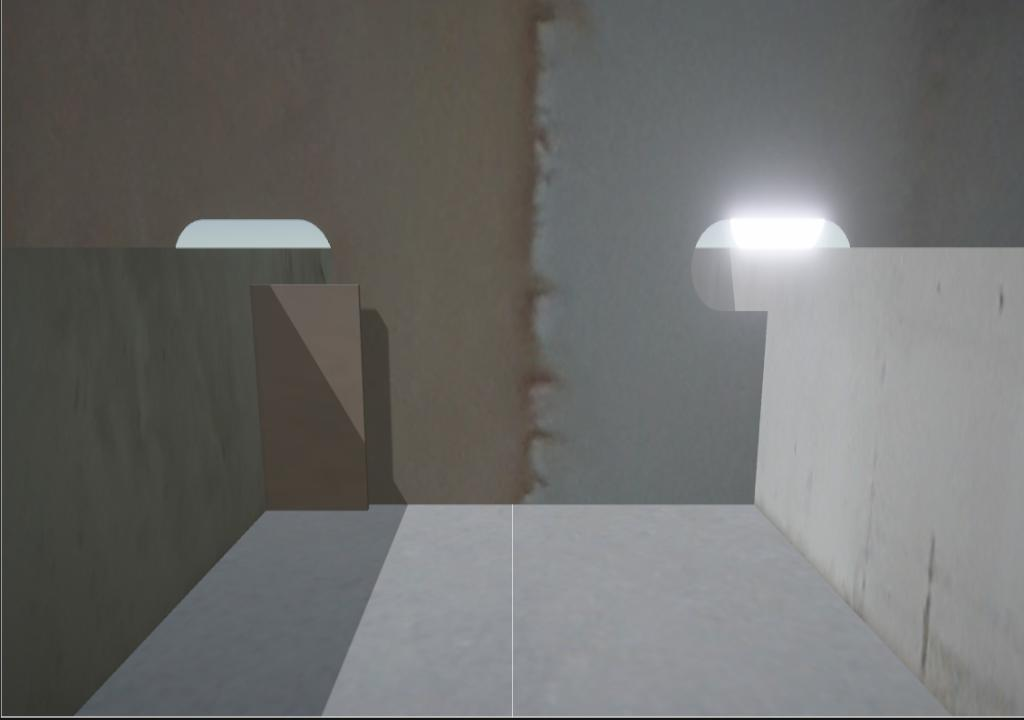fillet_yong_jeop_jang: (369, 497, 762, 509)
longi_yong_jeop_jang: (750, 309, 772, 510)
plate_CP01: (251, 284, 368, 511)
